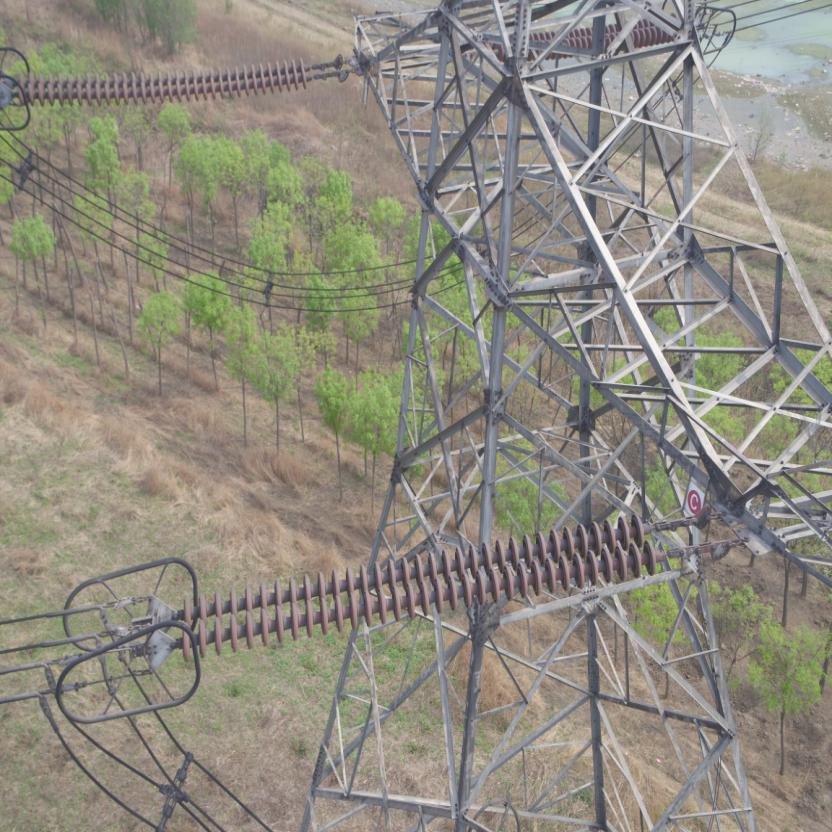insulator: (166, 508, 678, 663), (5, 54, 324, 108), (528, 20, 668, 58)
